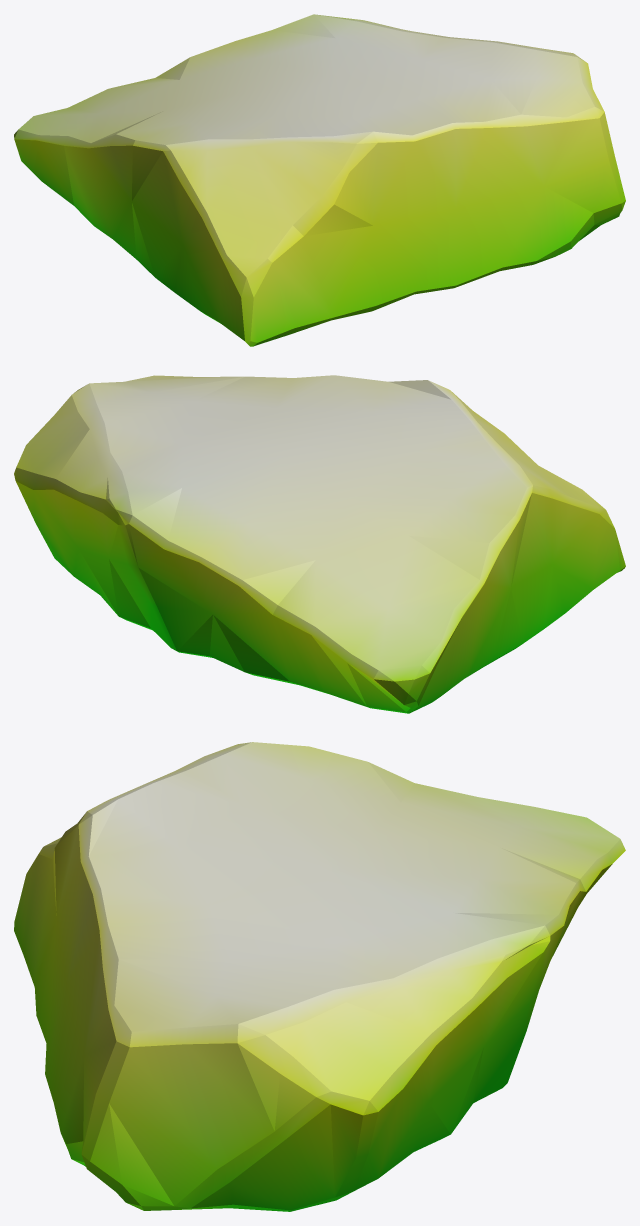
The model's file is rock_lookdev_02.fbx.
The picture shows the model from 3 angles, top to bottom: view 1: azimuth 30°, elevation 25°; view 2: azimuth 150°, elevation 25°; view 3: azimuth 270°, elevation 25°; orthographic projection. The views are drawn at different scales.
Parts seen in each view (by area): view 1: rock_generator2; view 2: rock_generator2; view 3: rock_generator2.
Part boxes in pixels (x1=…): rock_generator2: x1=14, y1=14, x2=625, y2=346; rock_generator2: x1=14, y1=375, x2=625, y2=713; rock_generator2: x1=14, y1=742, x2=625, y2=1211.
Bounding box in the file's own units: 314 × 107 × 262.
